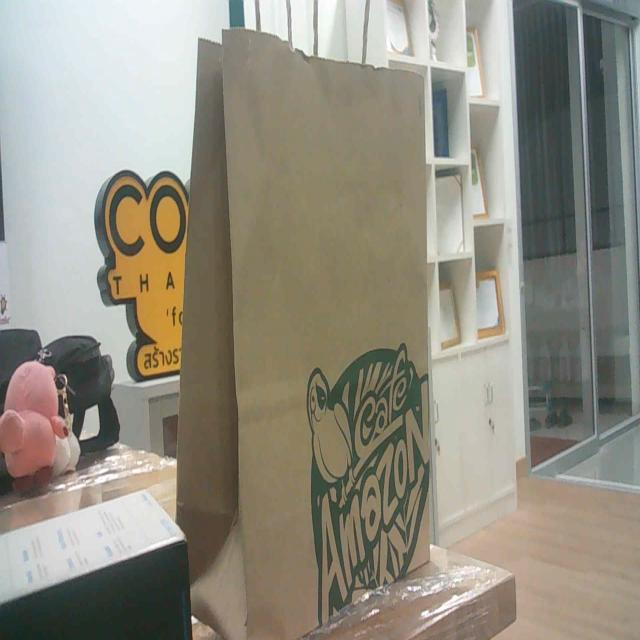bag: (182, 18, 452, 638)
